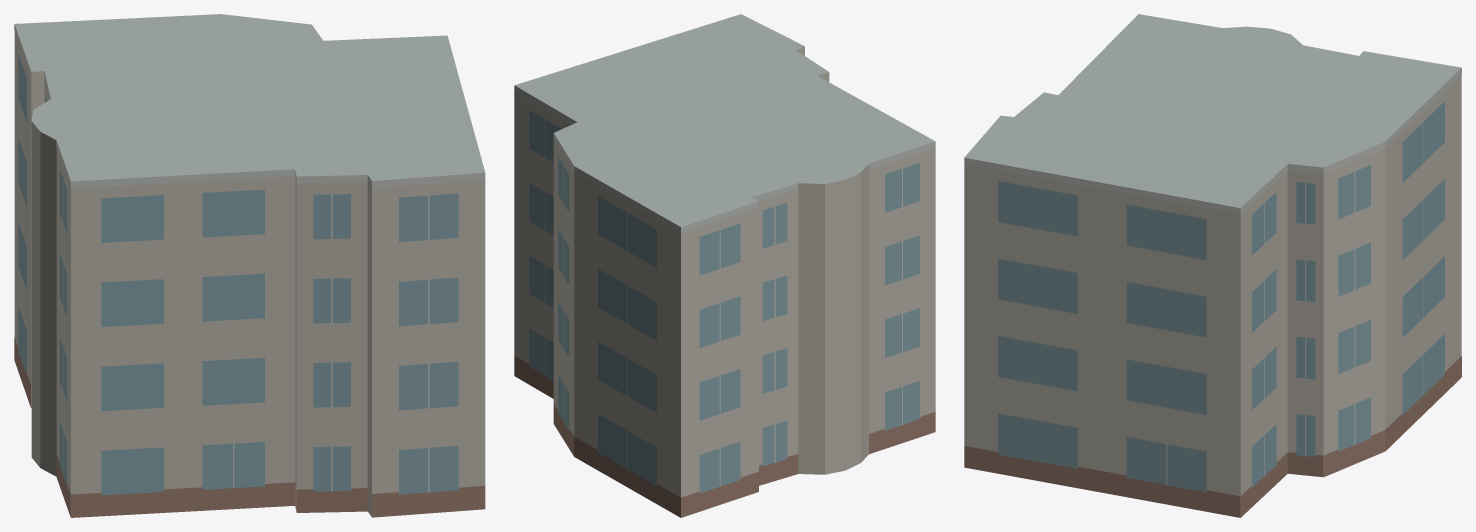
The model's file is survey-upis-32591622.glb.
The picture shows the model from 3 angles, left to right: view 1: azimuth 30°, elevation 25°; view 2: azimuth 150°, elevation 25°; view 3: azimuth 270°, elevation 25°; orthographic projection. The views are drawn at different scales.
Parts seen in each view (by area): view 1: survey-upis-32591622.tmp; view 2: survey-upis-32591622.tmp; view 3: survey-upis-32591622.tmp.
Part boxes in pixels (left/top/right/bottom): survey-upis-32591622.tmp: left=14, top=14, right=485, bottom=517; survey-upis-32591622.tmp: left=514, top=14, right=935, bottom=517; survey-upis-32591622.tmp: left=964, top=14, right=1461, bottom=517.
Size of the model in its own units: 15.73 by 11.7 by 17.04.
